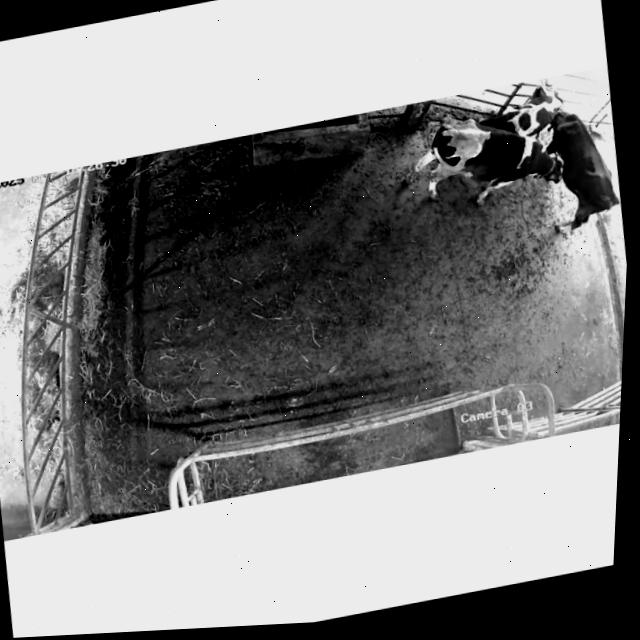stand: (398, 92, 580, 224), (547, 109, 619, 232), (479, 83, 562, 138)
